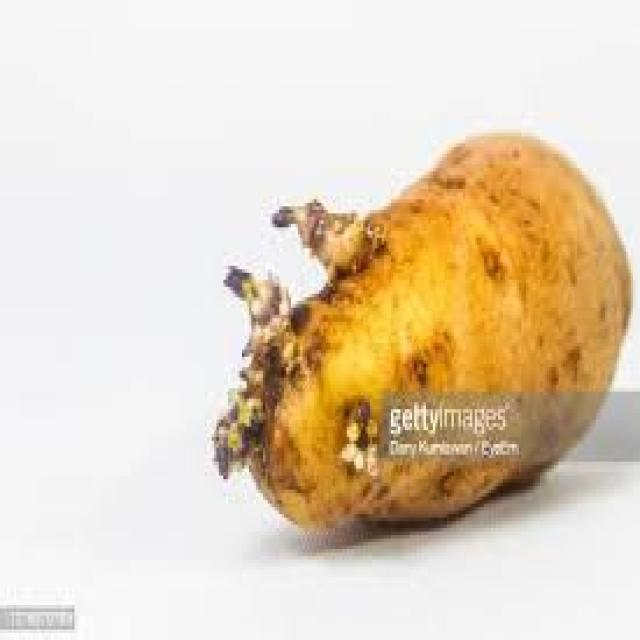food_waste: (214, 133, 631, 525)
